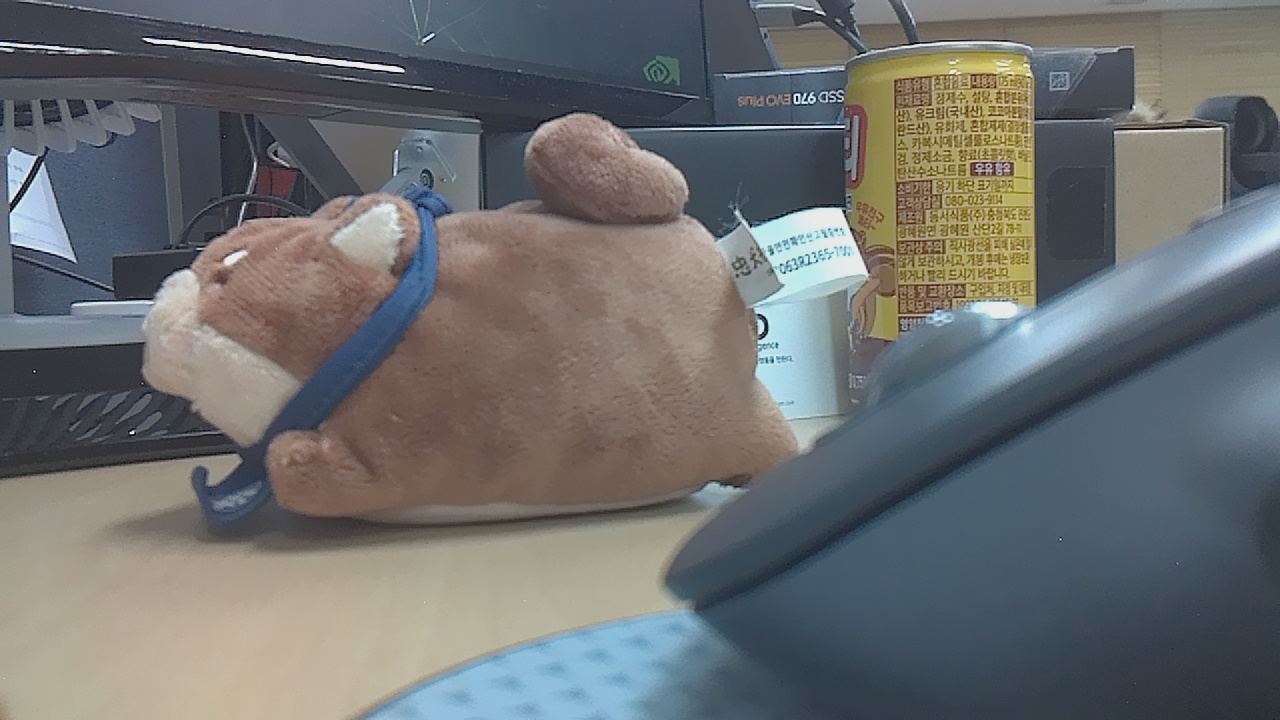cuteDog: (167, 143, 758, 536)
